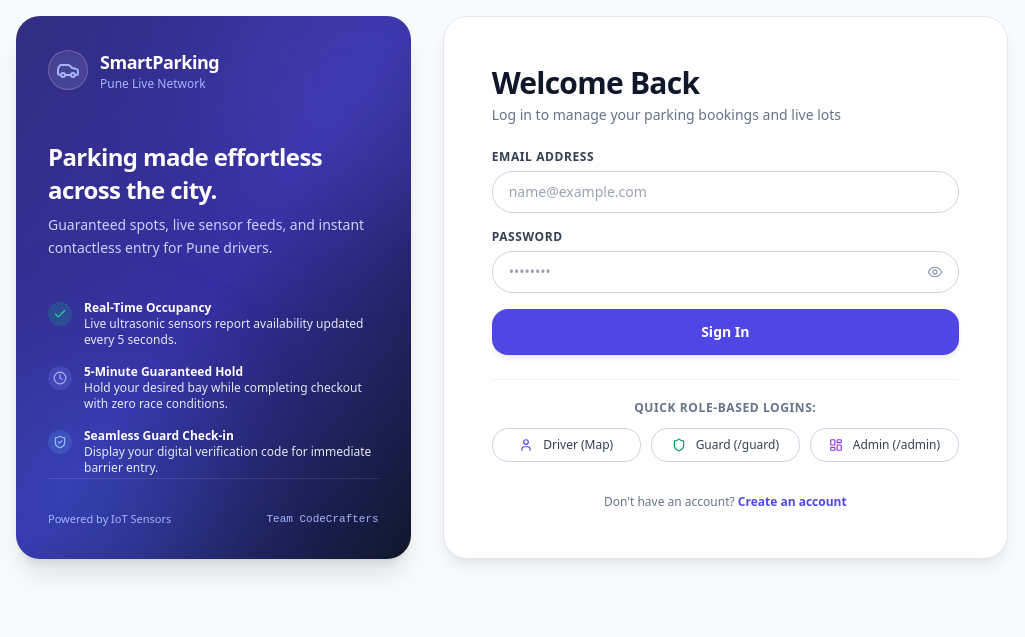
Scenario: Auth Flow, Role Redirection & Session Management › Login Form Validation & Role-based Home Redirection › shows accessible field error when submitting invalid credentials
Click the button "Sign In". click: {"x": 725, "y": 332}
box: [492,309,959,355]
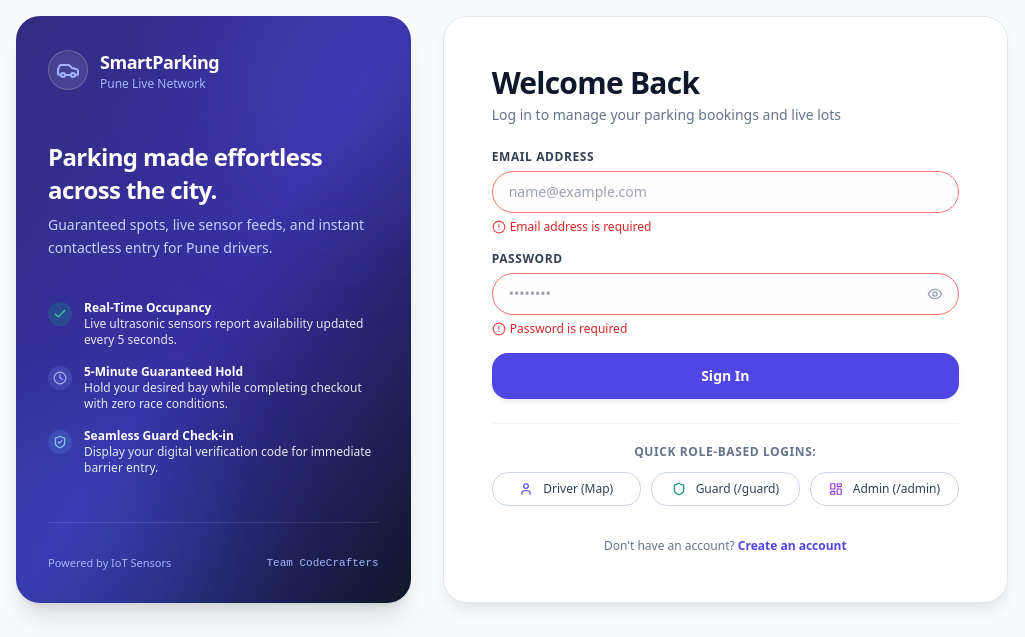
Now the text "Email address is required" is shown, box [492,218,651,235]
Now the text "Password is required" is shown, box [492,320,627,337]
